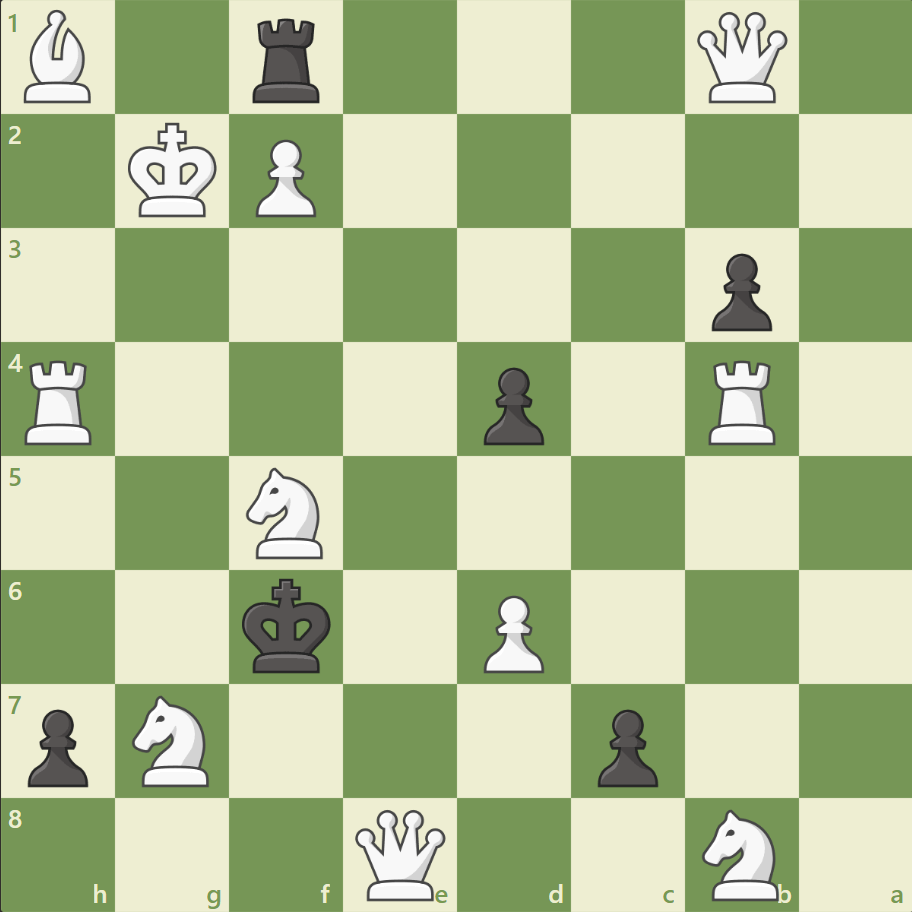B: (17, 6, 101, 109)
K: (124, 117, 224, 225)
N: (124, 688, 222, 791), (238, 461, 335, 564), (692, 802, 789, 904)
P: (474, 586, 549, 677), (247, 132, 322, 223)
Q: (351, 804, 450, 903), (691, 9, 790, 108)
R: (700, 352, 783, 449), (19, 352, 102, 449)
k: (238, 571, 338, 679)
p: (20, 700, 95, 791), (474, 359, 549, 450), (701, 246, 776, 337), (588, 700, 662, 791)
r: (246, 12, 329, 109)
